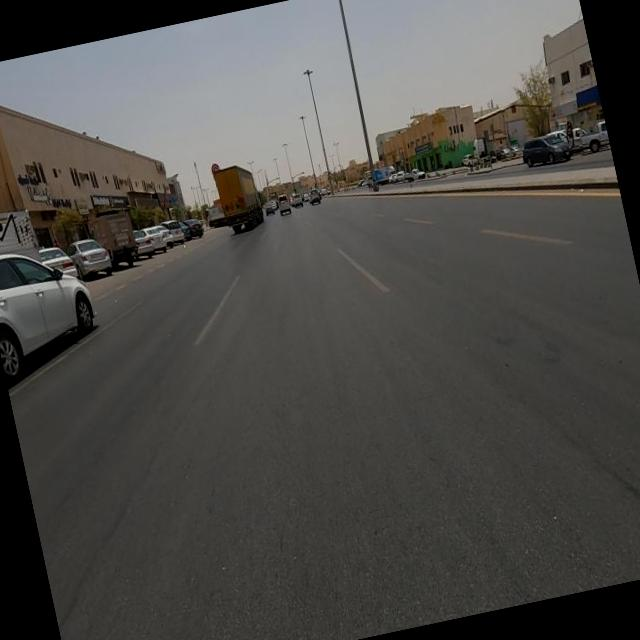debris: (108, 163, 184, 243)
